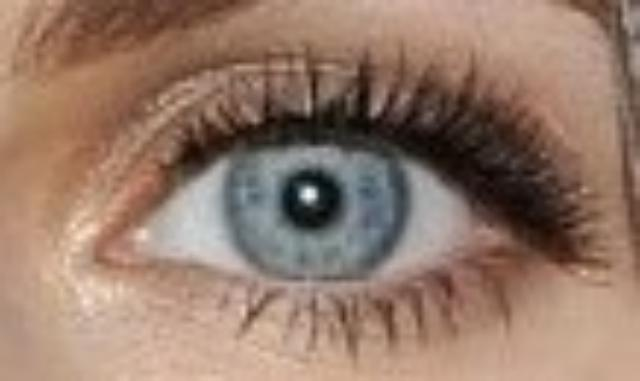eye: (224, 110, 414, 280)
